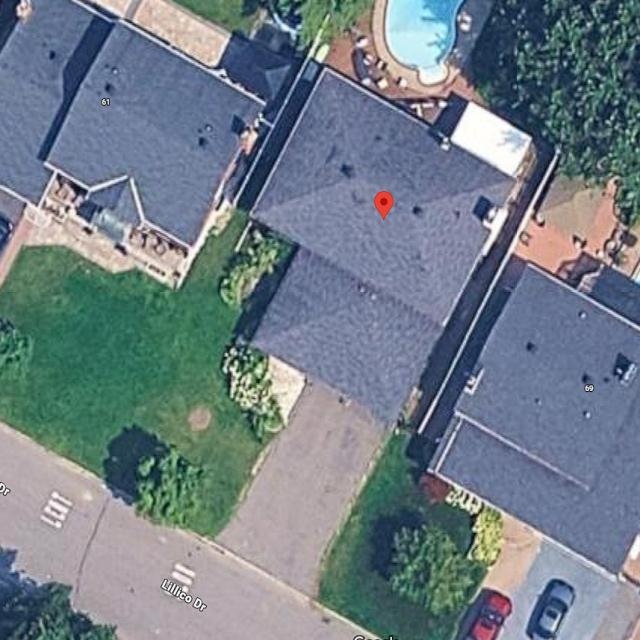Building: (246, 70, 532, 429)
boundaryof property: (93, 1, 615, 606)
obstacle: (131, 449, 203, 520), (227, 359, 286, 439)
walkways: (219, 388, 388, 603)
